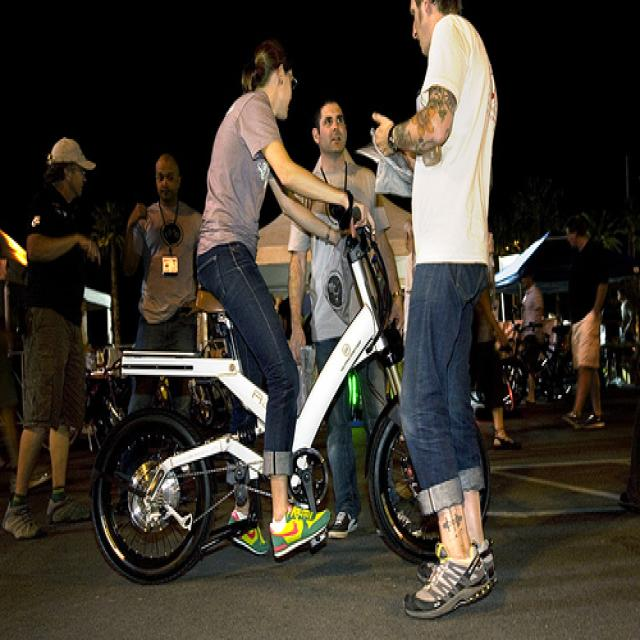motor: (88, 205, 491, 585)
